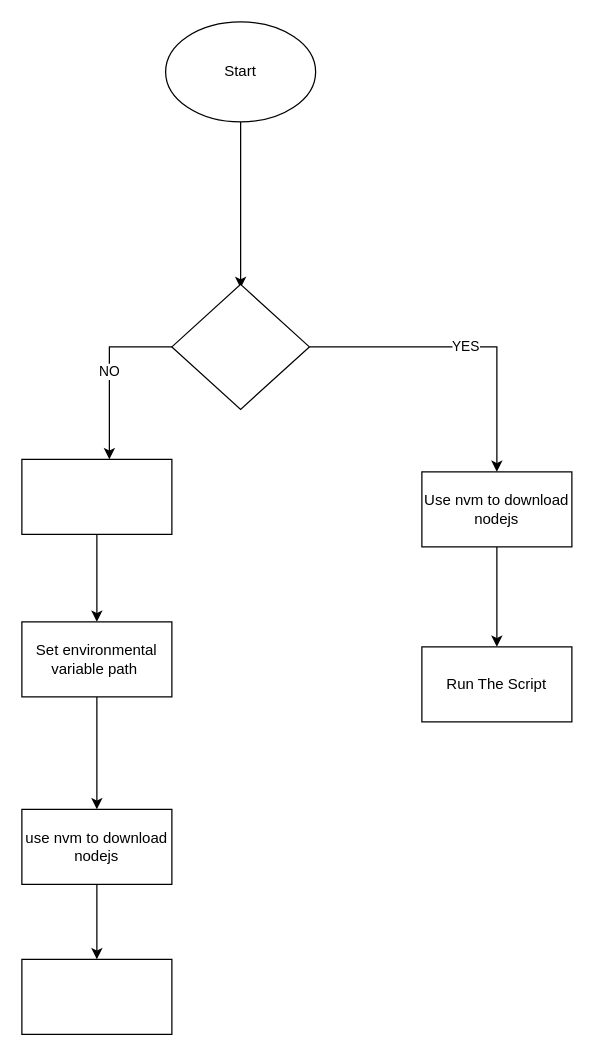
Some shapes in this 594 by 1056 pixel diagram are drawn without their labels. Each missing label, with the centre of its shape:
"Download nvm" belongs at (x=96, y=496).
"Is there nvm" belongs at (x=240, y=346).
"run script" belongs at (x=96, y=996).
